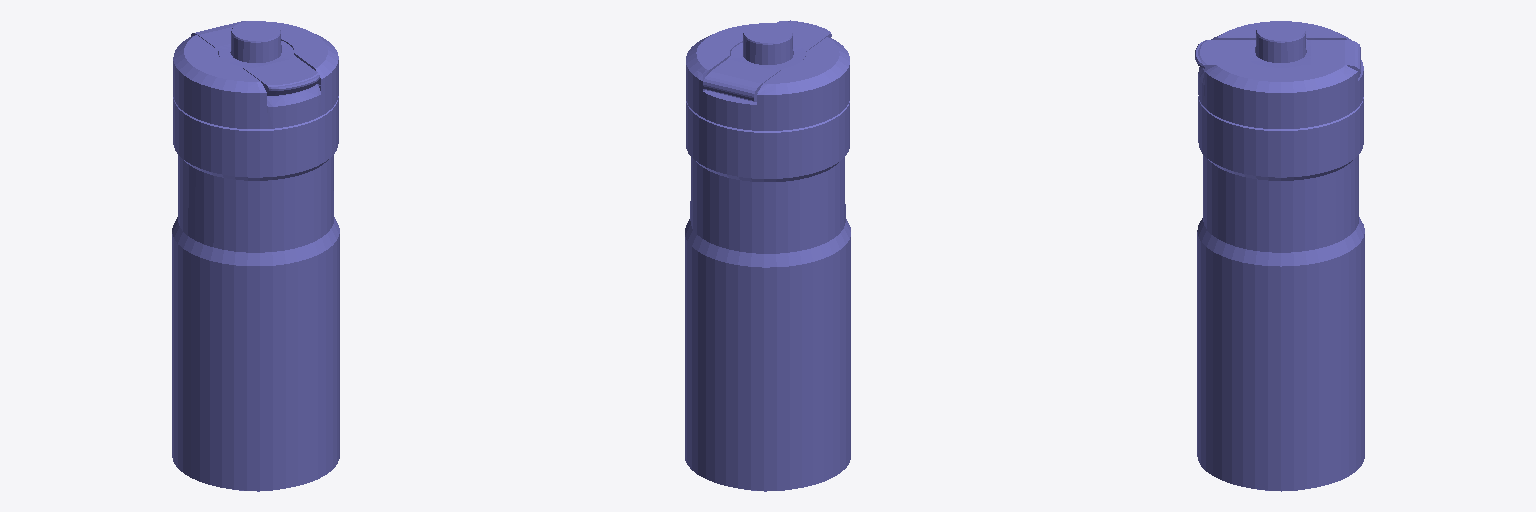
URDF robot description (waterbottle):
<?xml version="1.0" ?>
<robot name="waterbottle">
  <link name="bottleBody">
    <inertial>
      <origin rpy="0 0 0" xyz="0 0 0"/>
       <mass value="1.0"/>
       <inertia ixx="1" ixy="0" ixz="0" iyy="1" iyz="0" izz="1"/>
    </inertial>
    <visual>
      <origin rpy="0 0 0" xyz="0 0 -0.11"/>
      <geometry>
		    <mesh filename="waterbottle.stl" scale="1 1 1"/>
        <!-- <cylinder radius="0.041" length="0.22"/> -->
      </geometry>
       <material name="white">
        <color rgba="0.5 0.5 0.8 1.0"/>
      </material>
    </visual>
    <collision>
      <origin rpy="0 0 0" xyz="0 0 0"/>
      <geometry>
	 	<cylinder radius="0.041" length="0.22"/>
      </geometry>
    </collision>
  </link>
</robot>

--- What the picture shows (computed from the rendered views, not written in the file) ---
Views: 3 orthographic renders of the robot side by side, from view 1: azimuth 30°, elevation 25°; view 2: azimuth 150°, elevation 25°; view 3: azimuth 270°, elevation 25°.
Model waterbottle with 1 links and 0 joints (none), rooted at bottleBody, posed all joints at 0.
Links seen in each view (by area): view 1: bottleBody; view 2: bottleBody; view 3: bottleBody.
Link boxes in pixels (x1,y1,x2,y2): bottleBody: (172, 21, 339, 491); bottleBody: (685, 20, 850, 491); bottleBody: (1195, 21, 1364, 491).
Size in the robot's own frame: 0.0803 by 0.0814 by 0.2295 metres.
Meshes: 1 distinct files referenced, 1 mesh visuals loaded (1 binary STL).